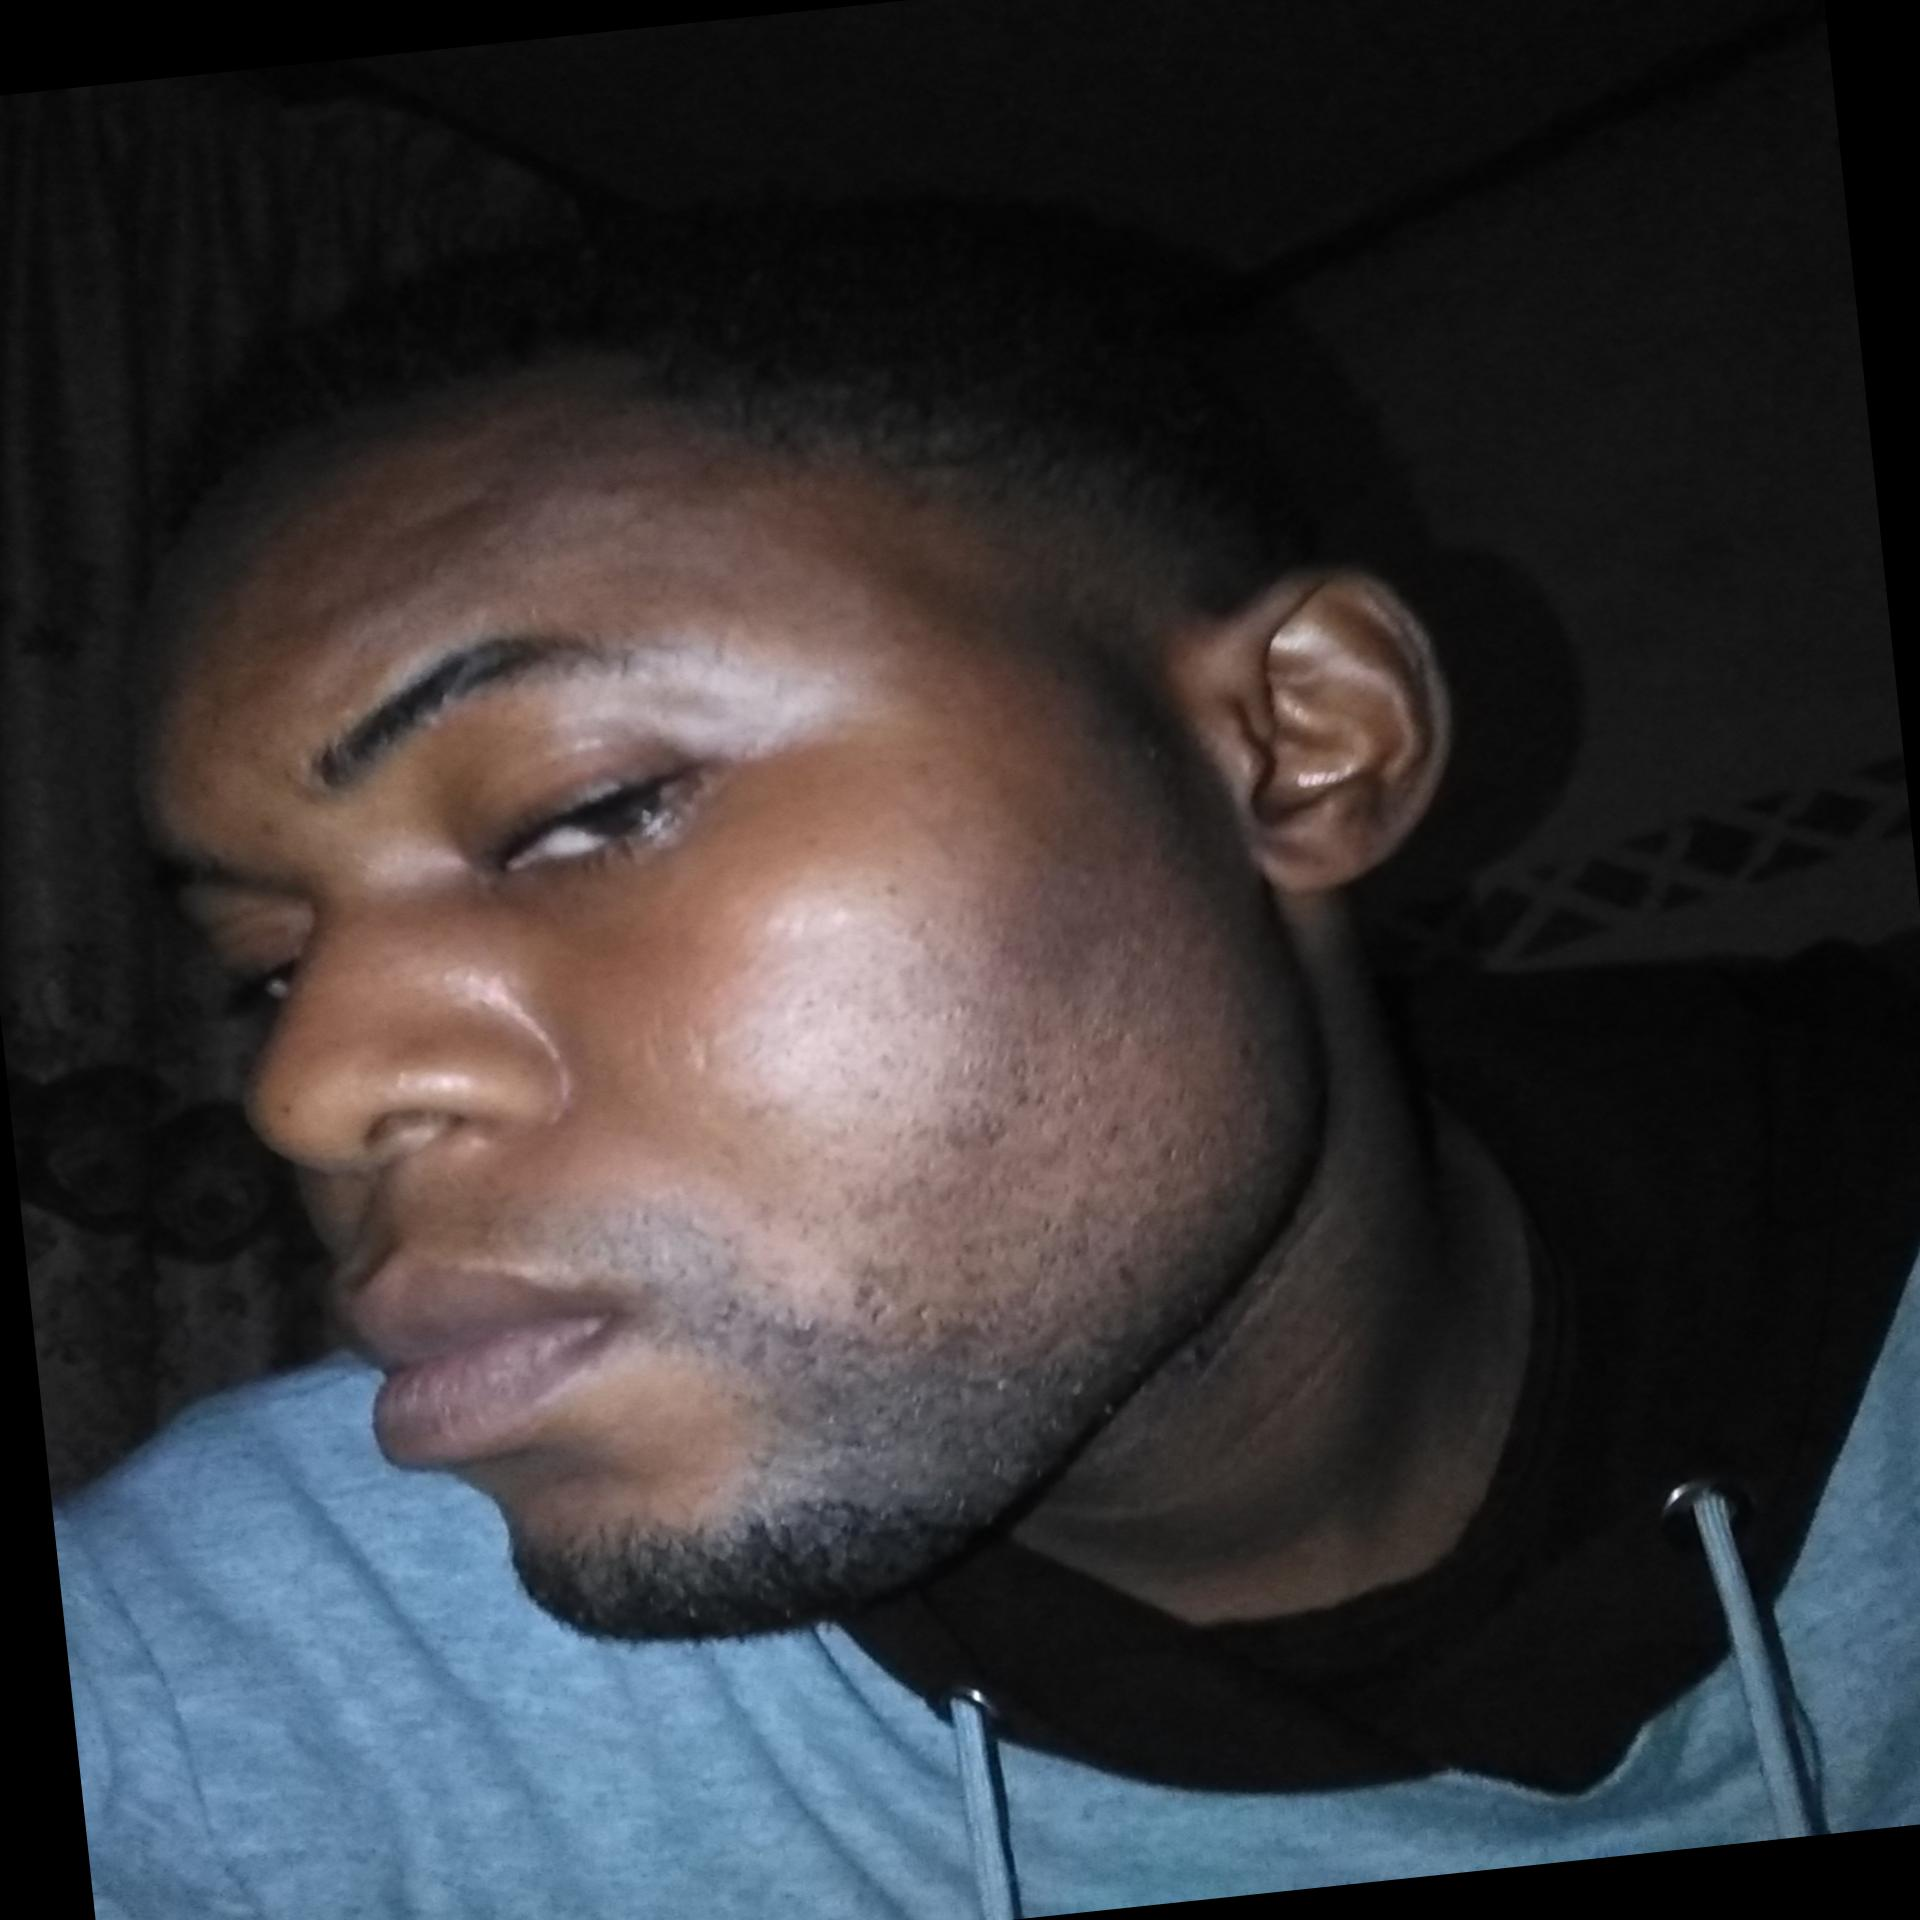Englarged Pores: (942, 986, 1285, 1278), (1036, 784, 1282, 999), (784, 1203, 974, 1354)
